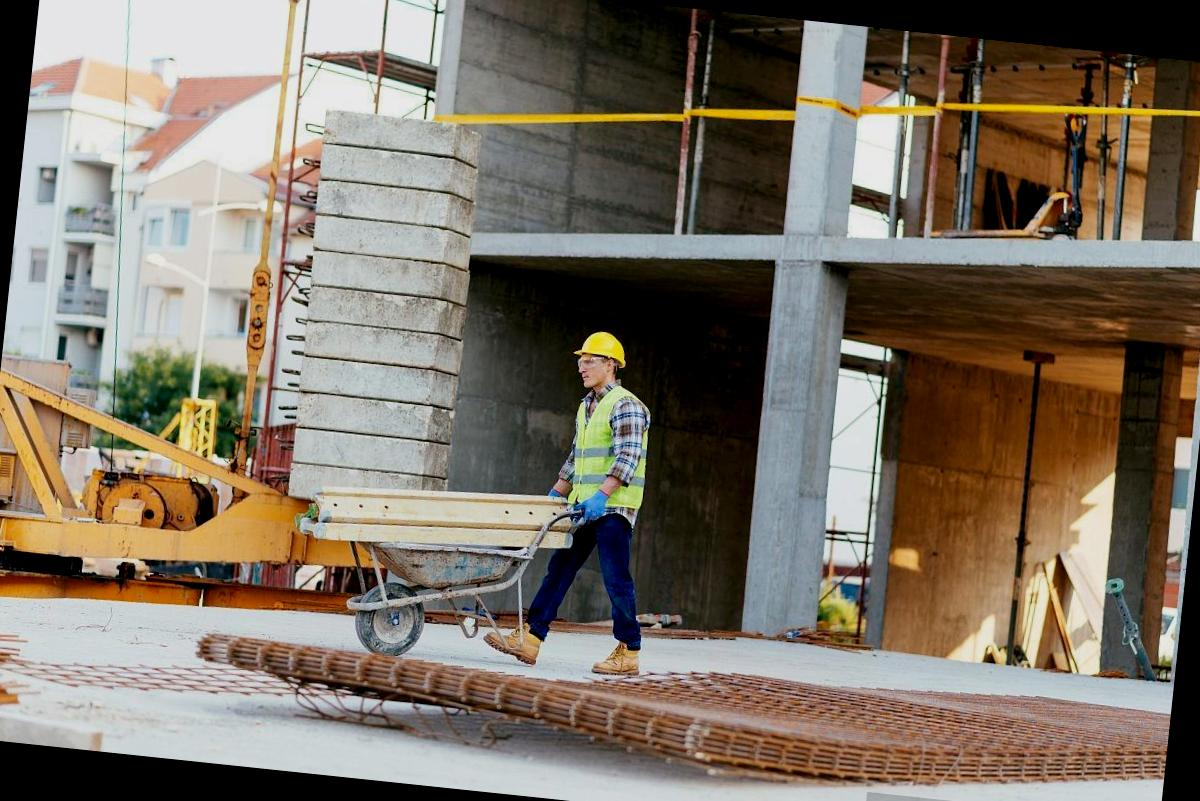helmet: (564, 322, 637, 378)
person: (476, 315, 680, 683)
